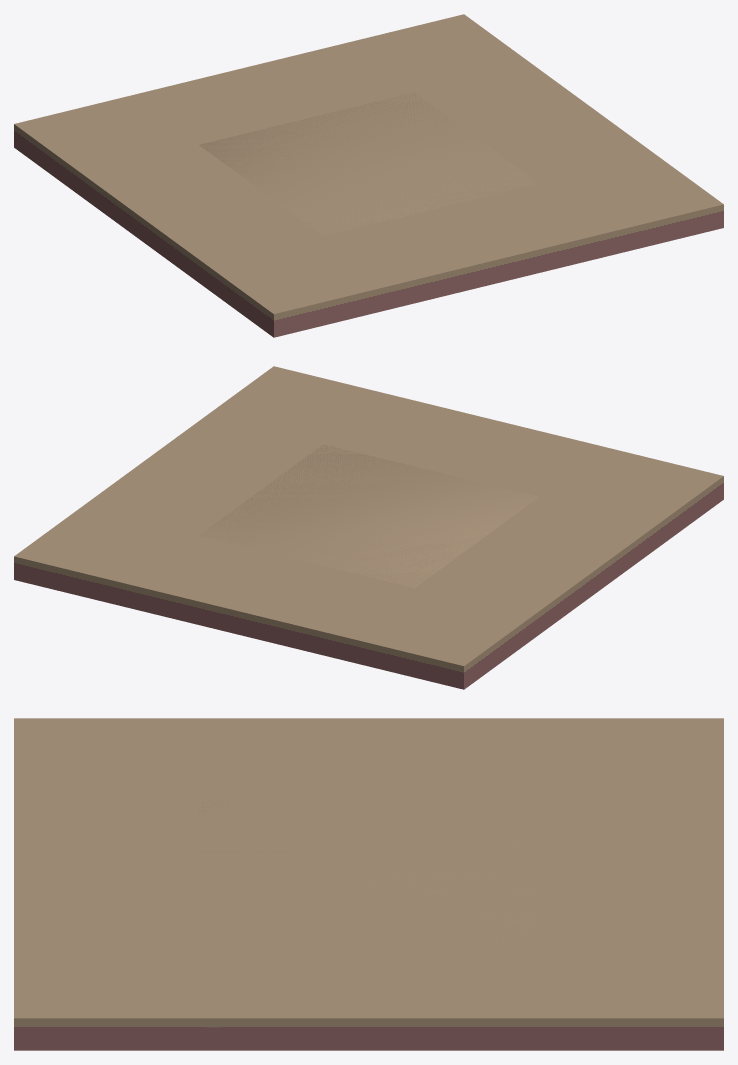
File: Floors.fbx
3 renders of one model, top to bottom at view 1: azimuth 30°, elevation 25°; view 2: azimuth 150°, elevation 25°; view 3: azimuth 270°, elevation 25°, orthographic. The views are drawn at different scales.
Parts seen in each view (by area): view 1: Floor_sand, Floor_sand_small; view 2: Floor_sand, Floor_sand_small; view 3: Floor_sand.
Part boxes in pixels (box(x1,y1,x2,y2)): Floor_sand: box(14, 14, 723, 337); Floor_sand_small: box(199, 92, 537, 235); Floor_sand: box(14, 366, 723, 689); Floor_sand_small: box(199, 444, 538, 587); Floor_sand: box(14, 718, 723, 1050).
Size of the model in its own units: 20 by 1 by 20.
